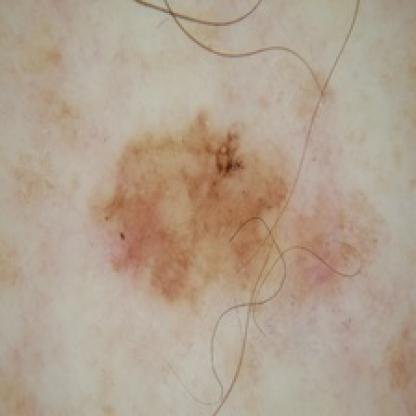Skin_Cancer-Malignant: (91, 110, 289, 302)
